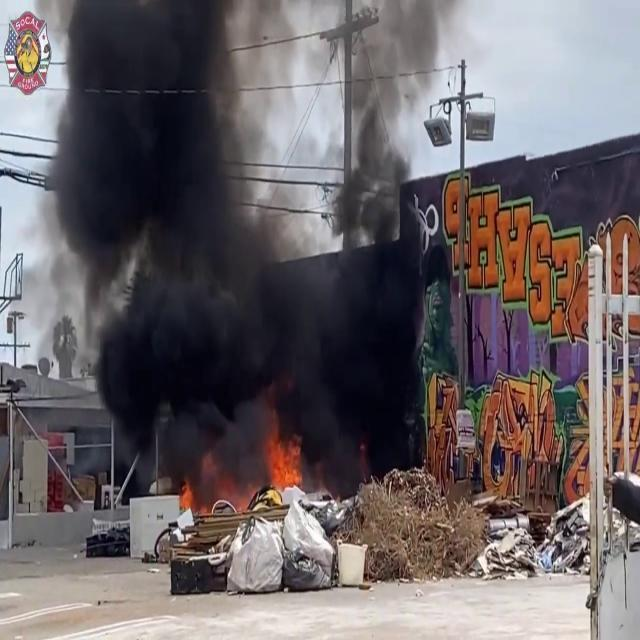Fire: (258, 419, 306, 502)
Smoke: (34, 0, 447, 484)
